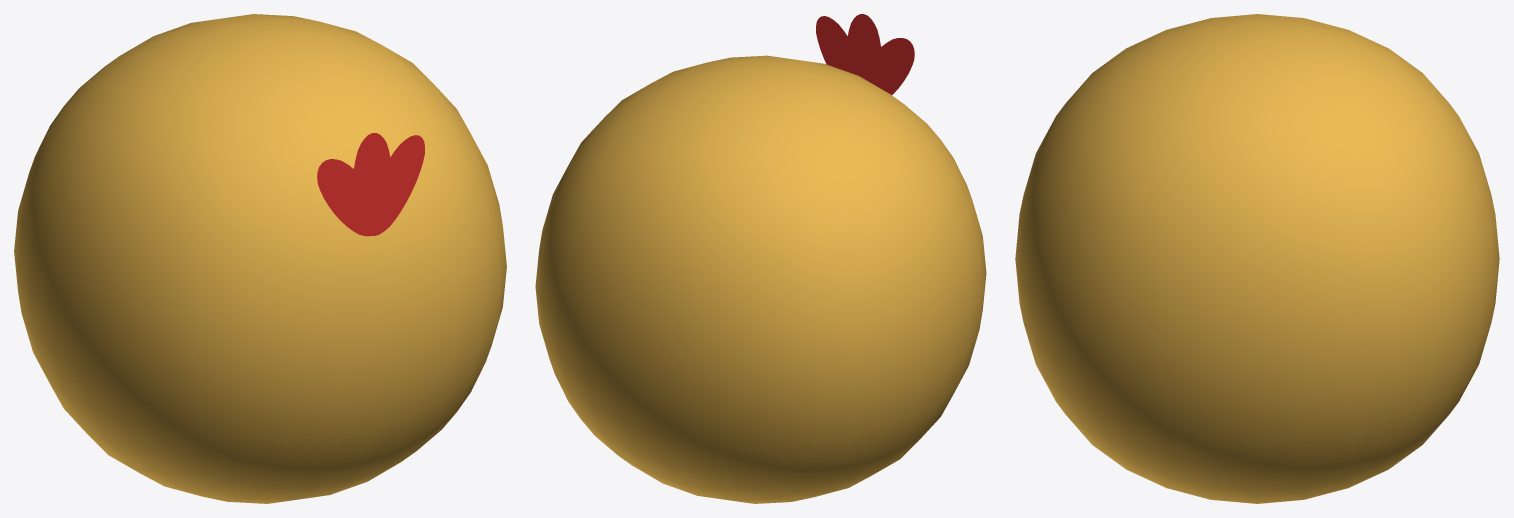
The model's file is mature.glb.
3 renders of one model, left to right at view 1: azimuth 30°, elevation 25°; view 2: azimuth 150°, elevation 25°; view 3: azimuth 270°, elevation 25°, orthographic. The views are drawn at different scales.
Visible parts, largest first — view 1: Cube, Plane.003; view 2: Cube, Plane.003; view 3: Cube.
Boxes of the visible parts, x1=… form: Cube: x1=14, y1=14, x2=506, y2=503; Plane.003: x1=317, y1=133, x2=424, y2=236; Cube: x1=535, y1=55, x2=986, y2=503; Plane.003: x1=816, y1=14, x2=914, y2=94; Cube: x1=1015, y1=14, x2=1499, y2=503.
Bounding box in the file's own units: 1.68 × 1.68 × 1.68.
